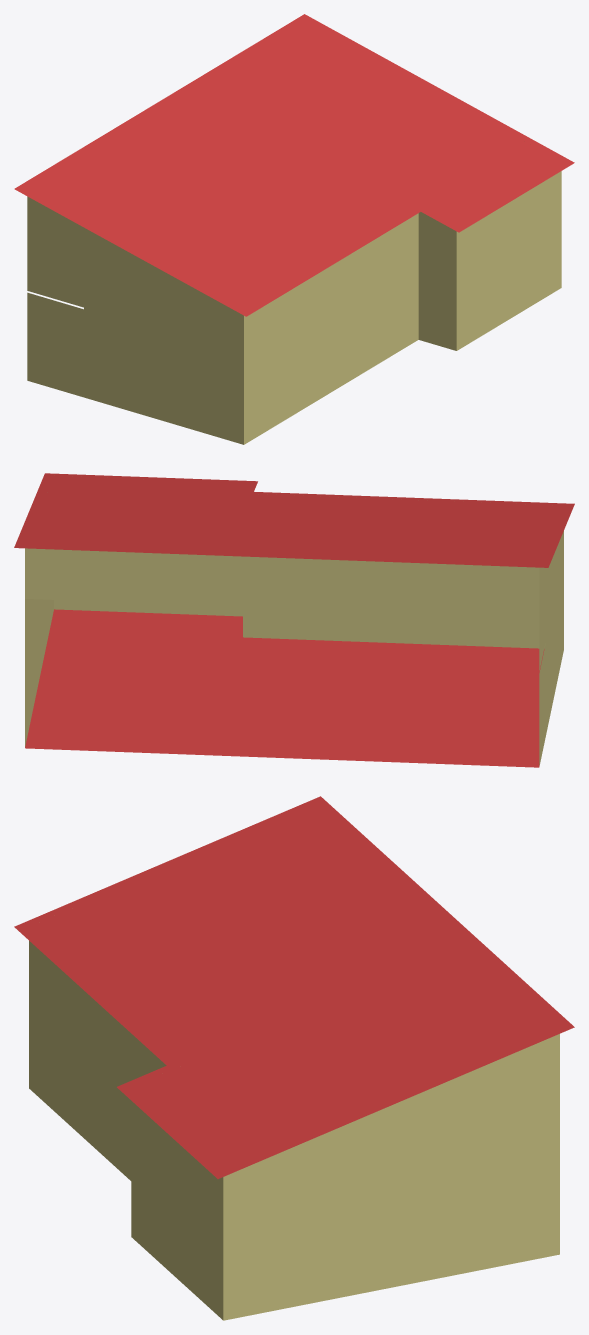
The picture shows the model from 3 angles, top to bottom: view 1: azimuth 30°, elevation 25°; view 2: azimuth 150°, elevation 25°; view 3: azimuth 270°, elevation 25°; orthographic projection. The views are drawn at different scales.
Size of the model in its own units: 31.43 by 24.74 by 11.17.
